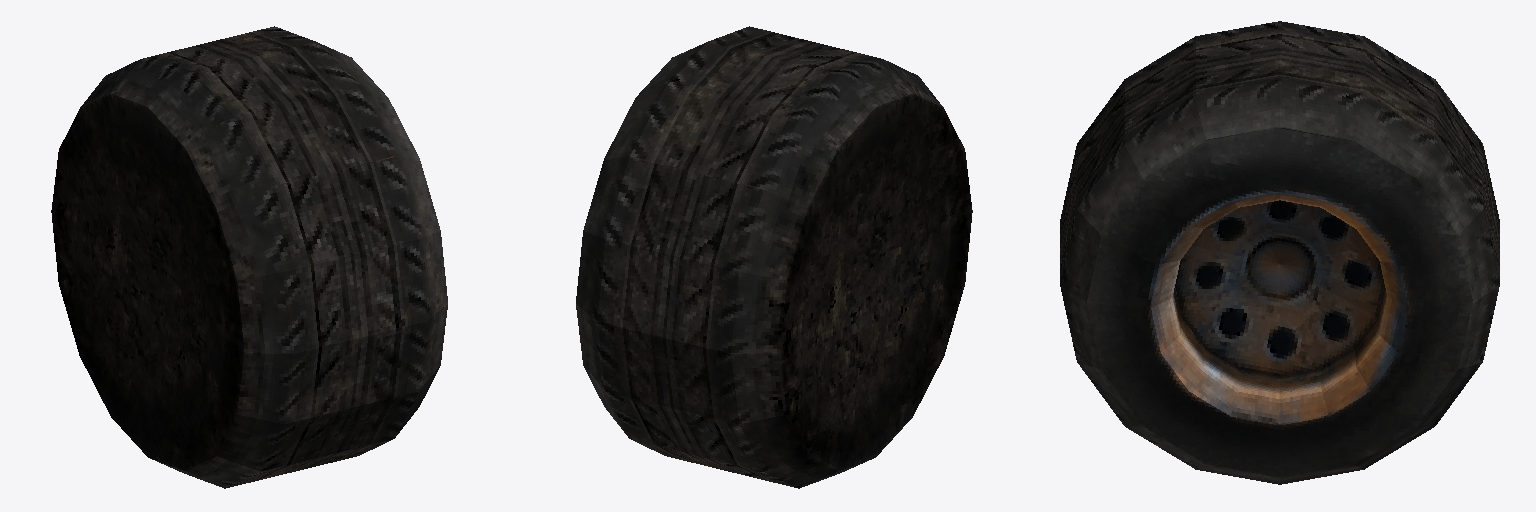
3 views of the same model, side by side, from view 1: azimuth 30°, elevation 25°; view 2: azimuth 150°, elevation 25°; view 3: azimuth 270°, elevation 25° (orthographic).
Parts seen in each view (by area): view 1: Object002; view 2: Object002; view 3: Object002.
Boxes of the visible parts, x1,y1,x2,y2 form: Object002: [51, 26, 447, 488]; Object002: [576, 26, 972, 488]; Object002: [1060, 21, 1499, 484].
Size of the model in its own units: 3.48 by 6.14 by 6.14.
Materials: 1 (1 with a texture image).